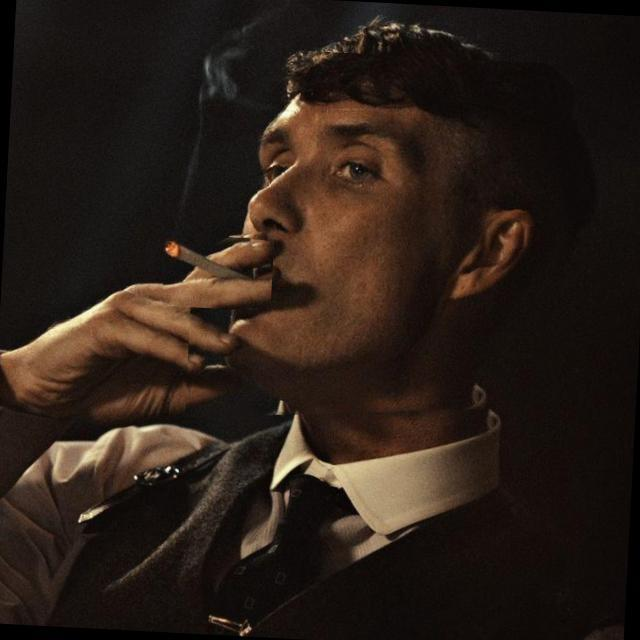cigarette: (134, 230, 274, 312)
